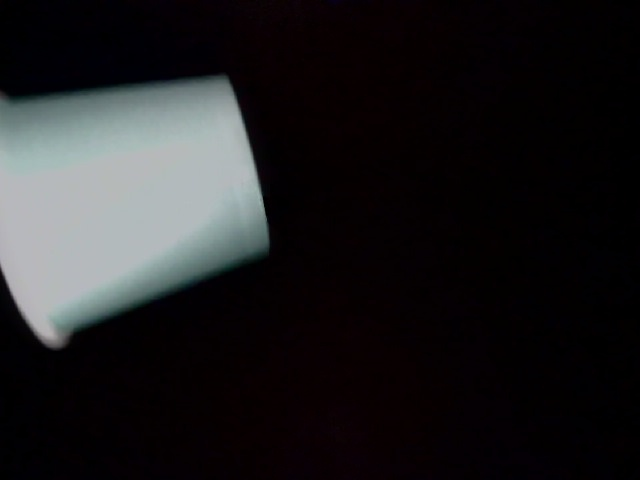CYLJ: (243, 24, 348, 123)
